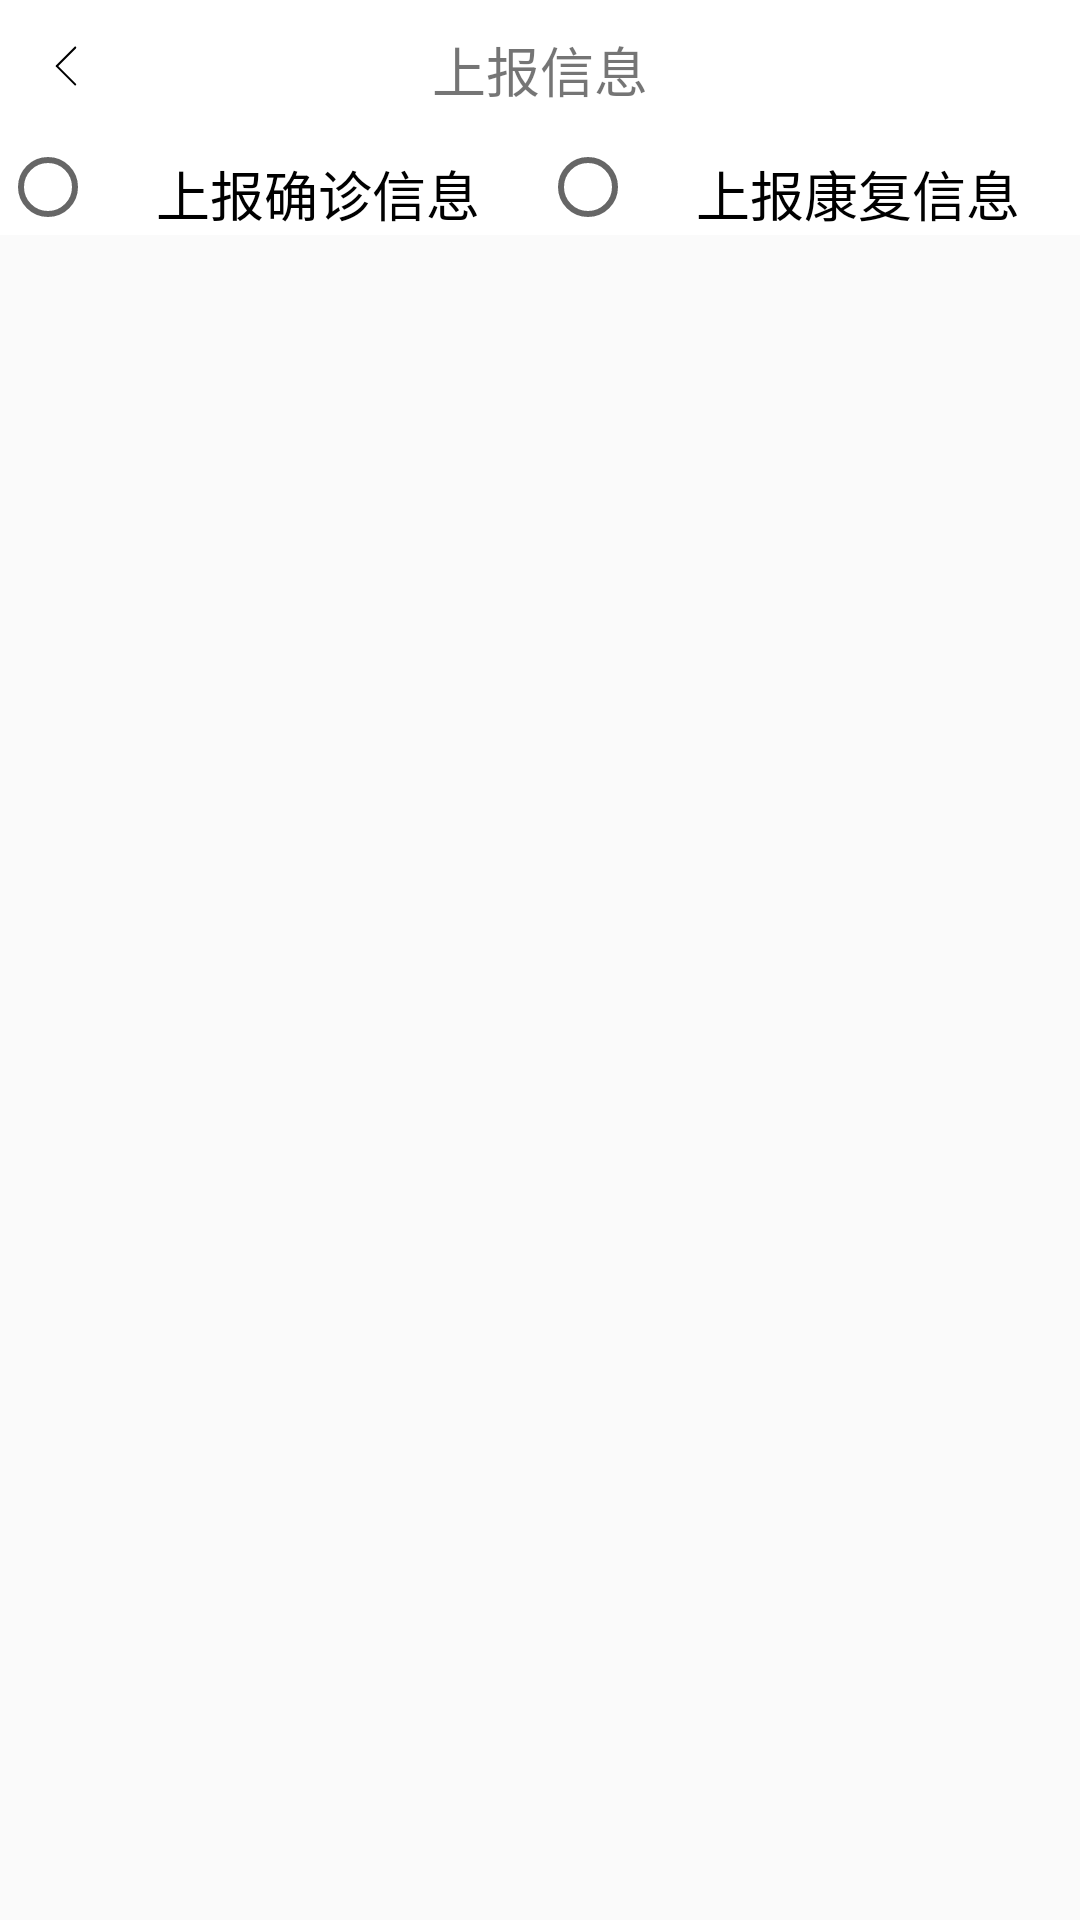

Icon click points for this 1080px x 1920px phone screenshot, format (x=x, y=y):
back: (x=66, y=66)
